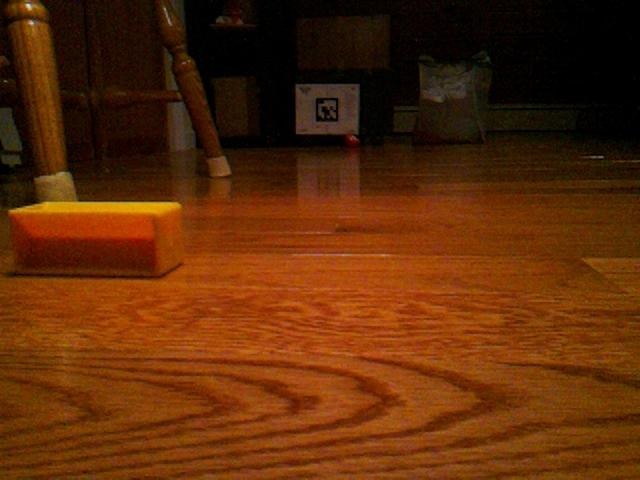yellow: (8, 199, 185, 279)
